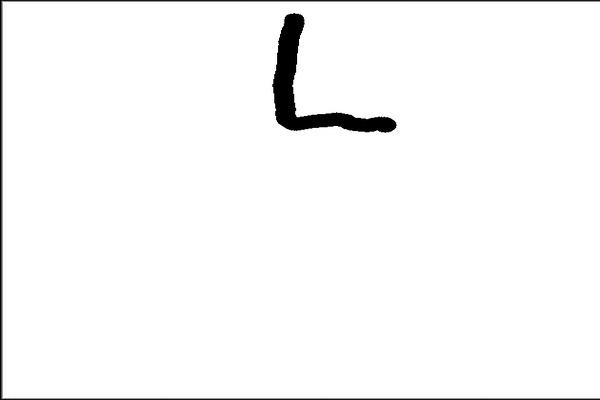L: (262, 6, 401, 139)
